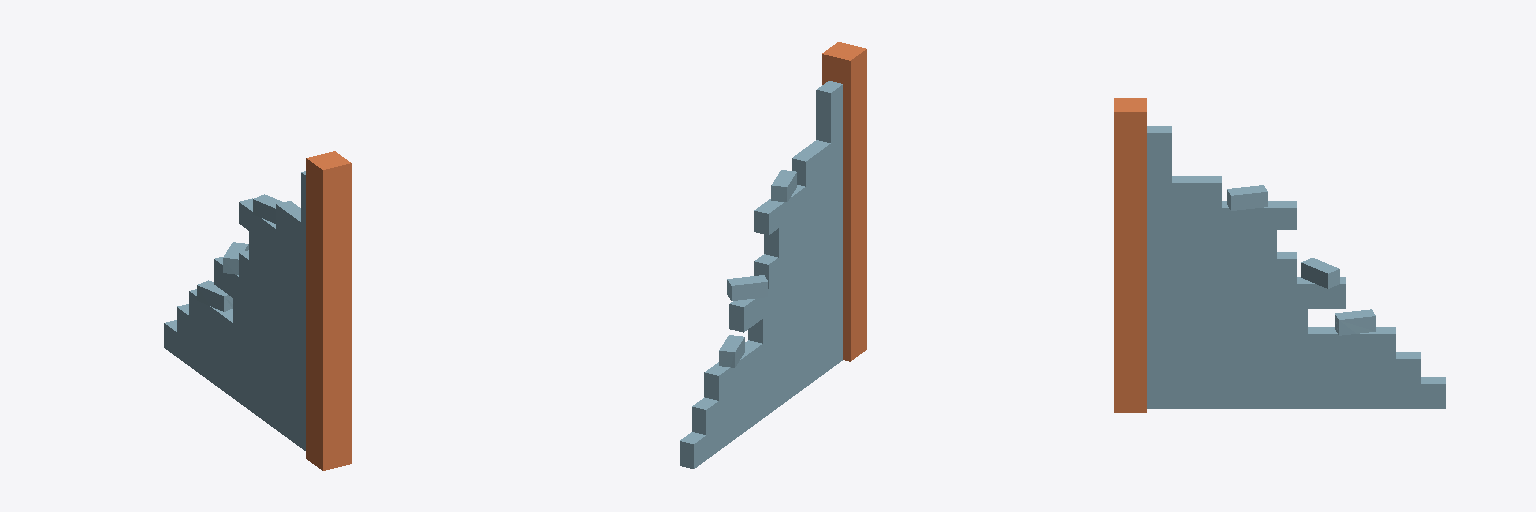
File: wallBroken.obj
3 renders of one model, left to right at view 1: azimuth 30°, elevation 25°; view 2: azimuth 150°, elevation 25°; view 3: azimuth 270°, elevation 25°, orthographic.
Visible parts, largest first — view 1: wallBroken; view 2: wallBroken; view 3: wallBroken.
Part boxes in pixels (bbox=[...]): wallBroken: bbox=[164, 151, 351, 470]; wallBroken: bbox=[680, 42, 866, 468]; wallBroken: bbox=[1114, 98, 1445, 412].
Bounding box in the file's own units: 0.116 × 1 × 1.